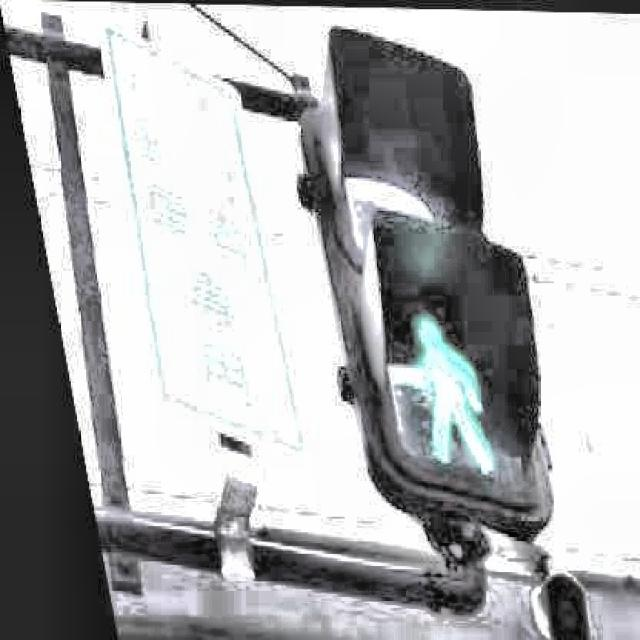semaforo pedestre: (202, 44, 635, 634)
